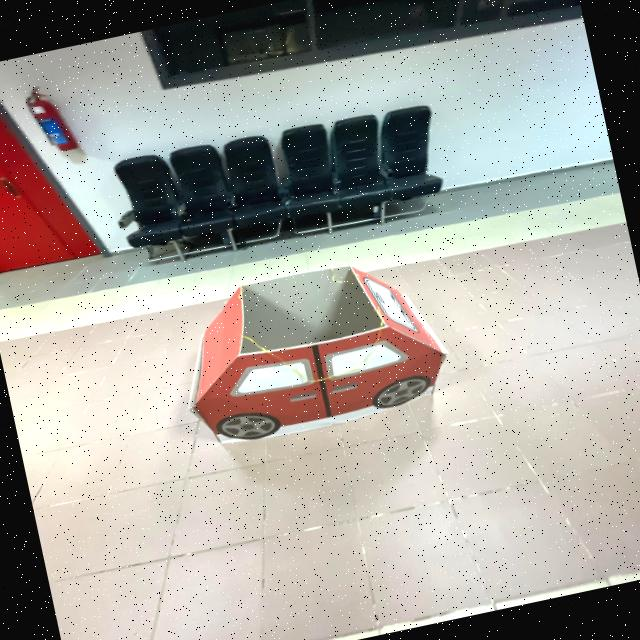red_car: (159, 237, 471, 478)
